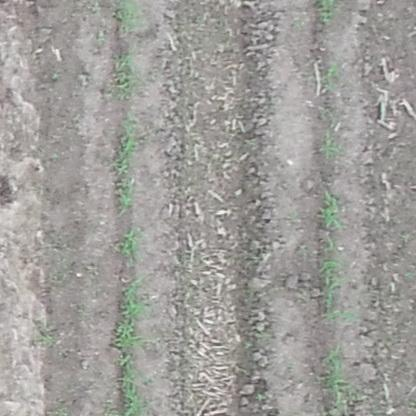corn: (107, 274, 149, 412), (313, 240, 360, 321), (321, 342, 356, 399), (116, 122, 135, 210), (315, 189, 347, 232), (114, 51, 138, 95), (320, 129, 345, 161), (113, 1, 136, 34), (320, 59, 342, 93), (117, 229, 137, 255)
